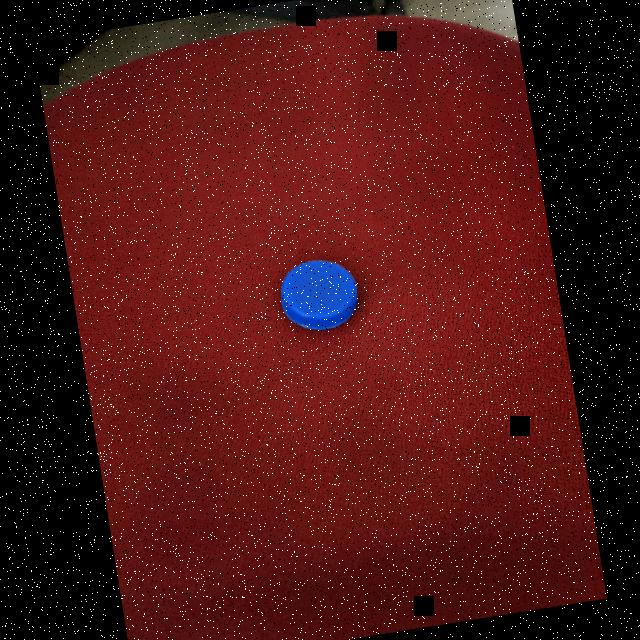plastic_bottle_cap: (268, 242, 370, 346)
